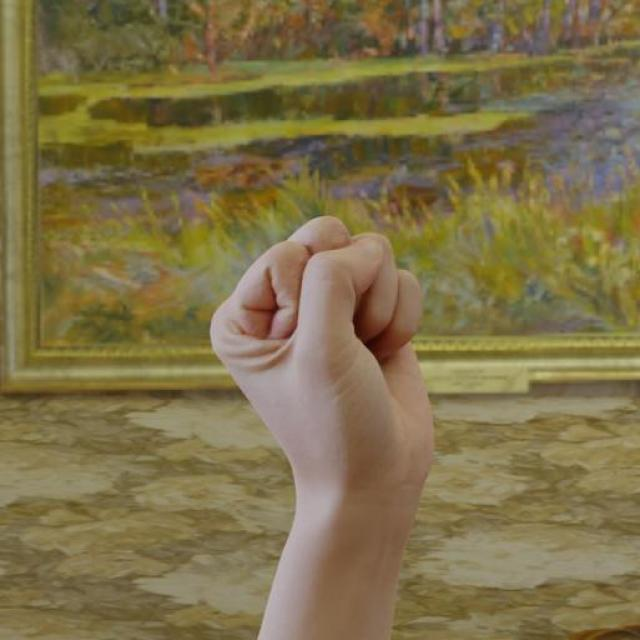S: (205, 212, 439, 497)
